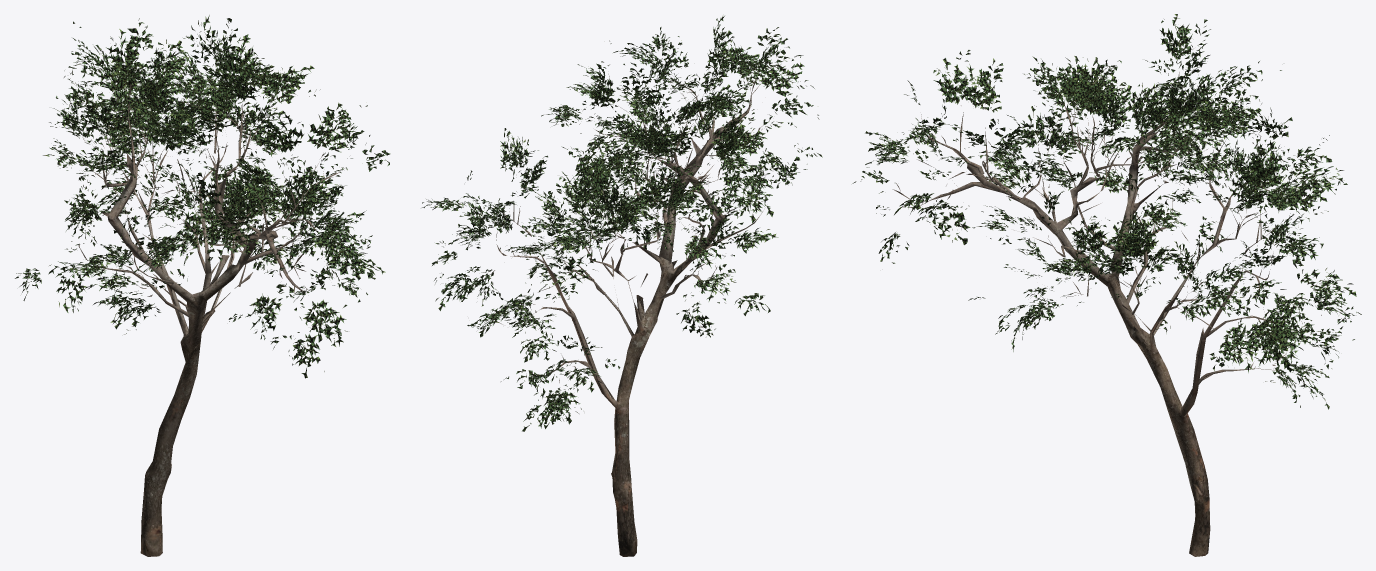
The model's file is tree_small_02.glb.
3 renders of one model, left to right at view 1: azimuth 30°, elevation 25°; view 2: azimuth 150°, elevation 25°; view 3: azimuth 270°, elevation 25°, orthographic. The views are drawn at different scales.
Parts seen in each view (by area): view 1: tree_small_02_LOD0; view 2: tree_small_02_LOD0; view 3: tree_small_02_LOD0.
Part boxes in pixels (bbox=[...]): tree_small_02_LOD0: bbox=[15, 15, 390, 556]; tree_small_02_LOD0: bbox=[422, 16, 822, 556]; tree_small_02_LOD0: bbox=[852, 14, 1361, 556].
Bounding box in the file's own units: 2.88 × 4.55 × 4.2.
3 materials, 3 textured.
